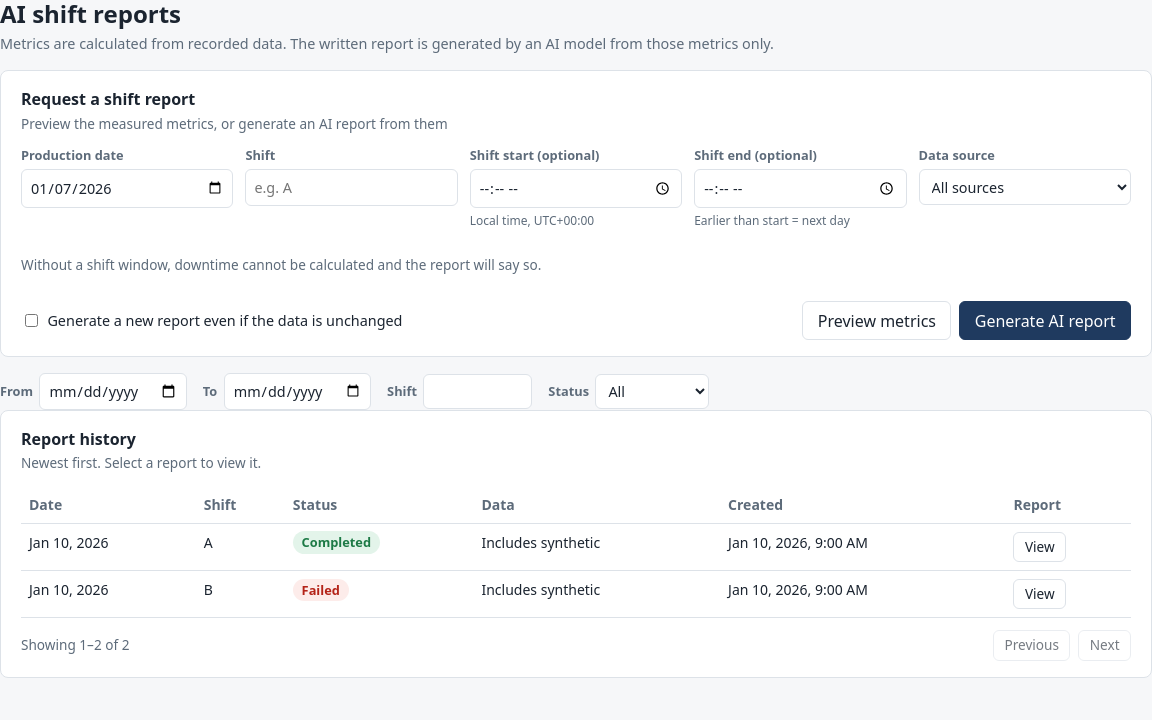
ReportsPage — form › sends the shift window as UTC instants
The image size is (1152, 720).
Check: the date field labelled "Production date" holds "2026-01-07", box [21, 169, 233, 208]
Type "A" into the field labelled "Shift" below "Production date" at (352, 188), box [245, 169, 458, 206]
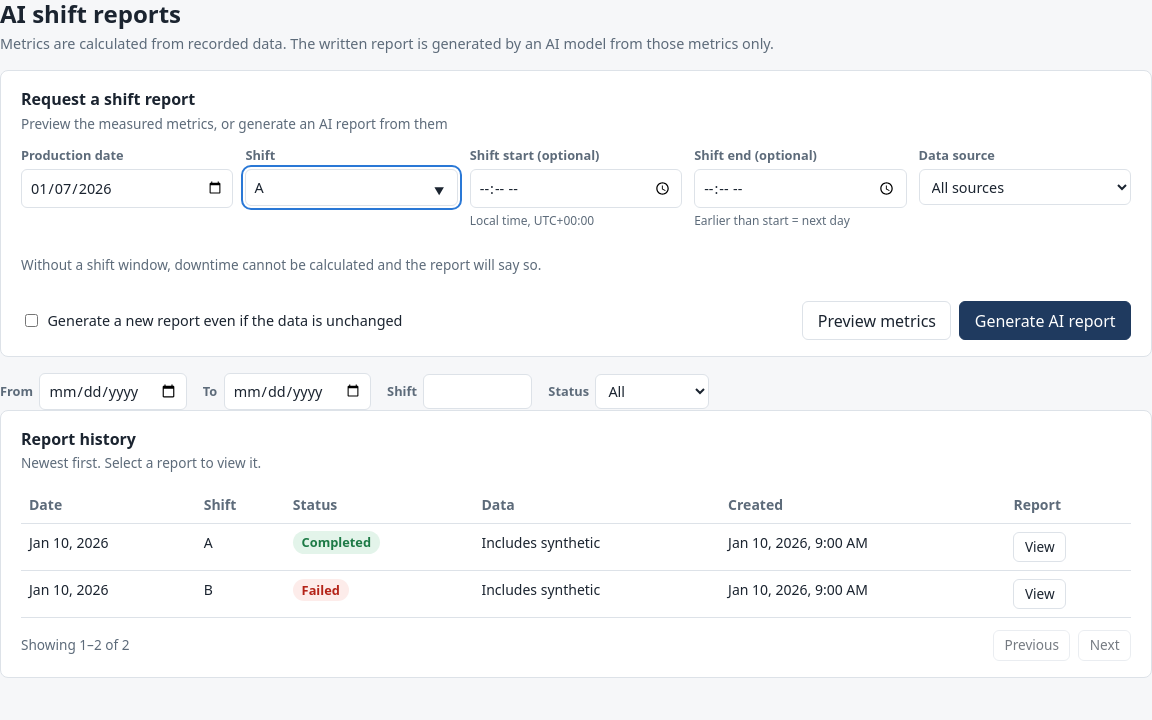
Type "22:00" into the time field labelled "Shift start (optional)" at (576, 189), box [470, 169, 682, 208]
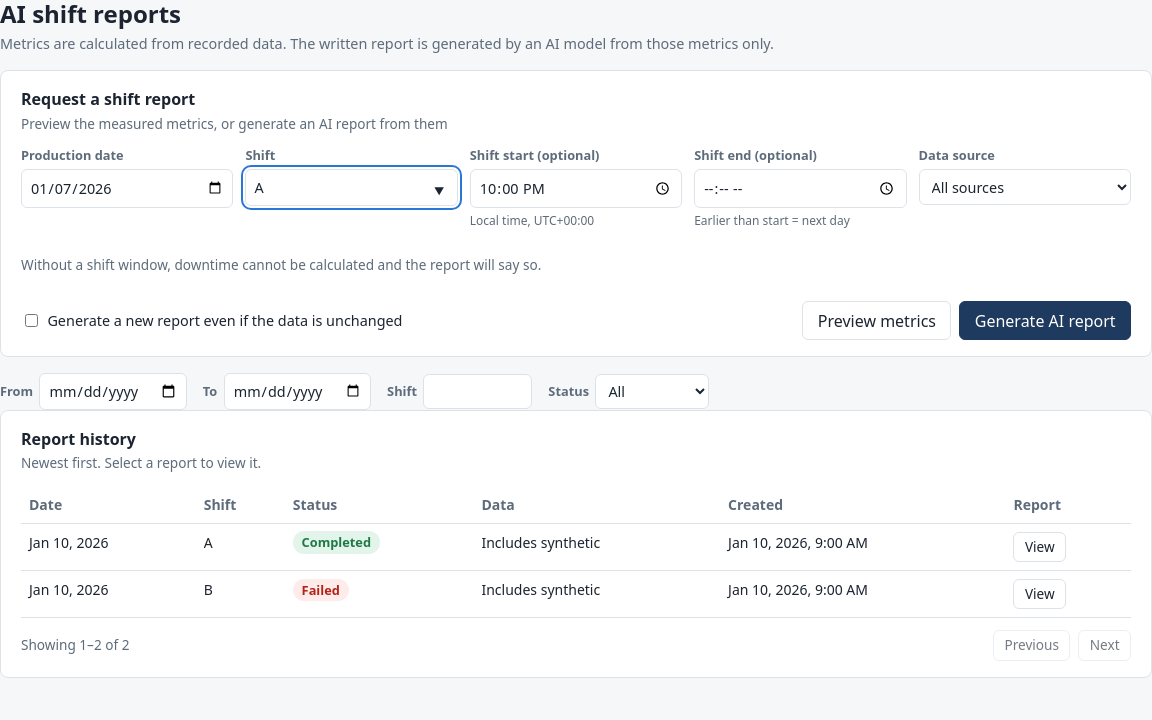
Type "06:00" into the time field labelled "Shift end (optional)" at (800, 189), box [694, 169, 907, 208]
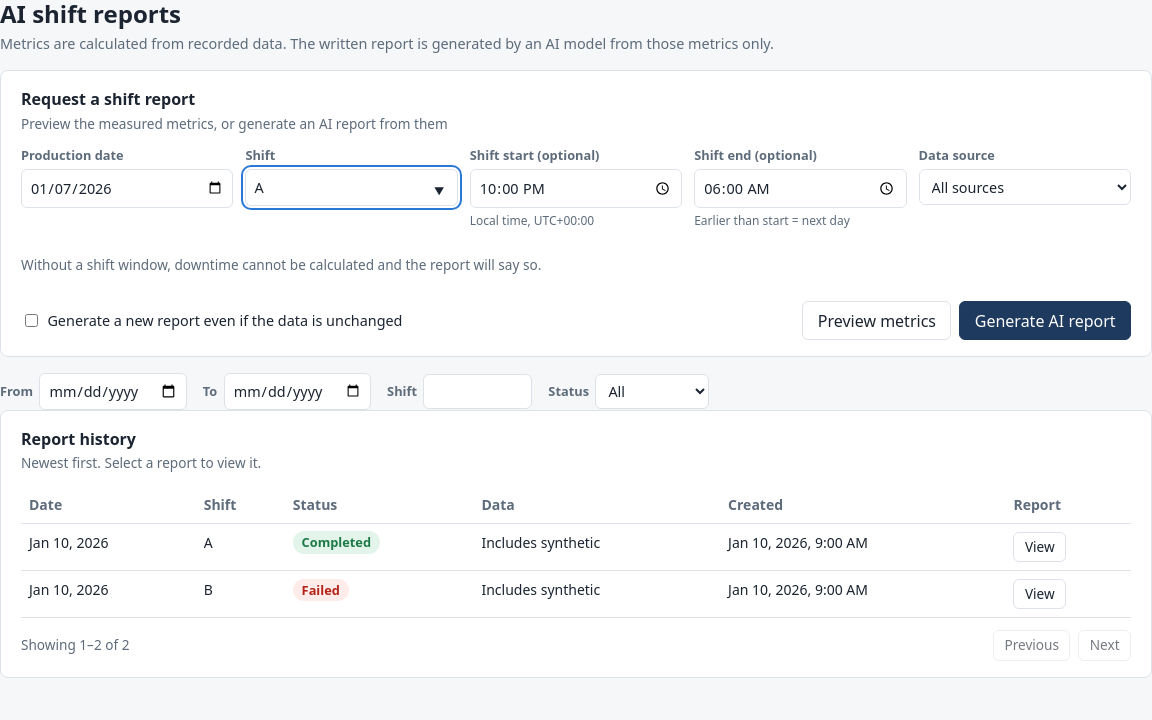
Click the button "Generate AI report" at (1045, 321), box [959, 301, 1131, 340]
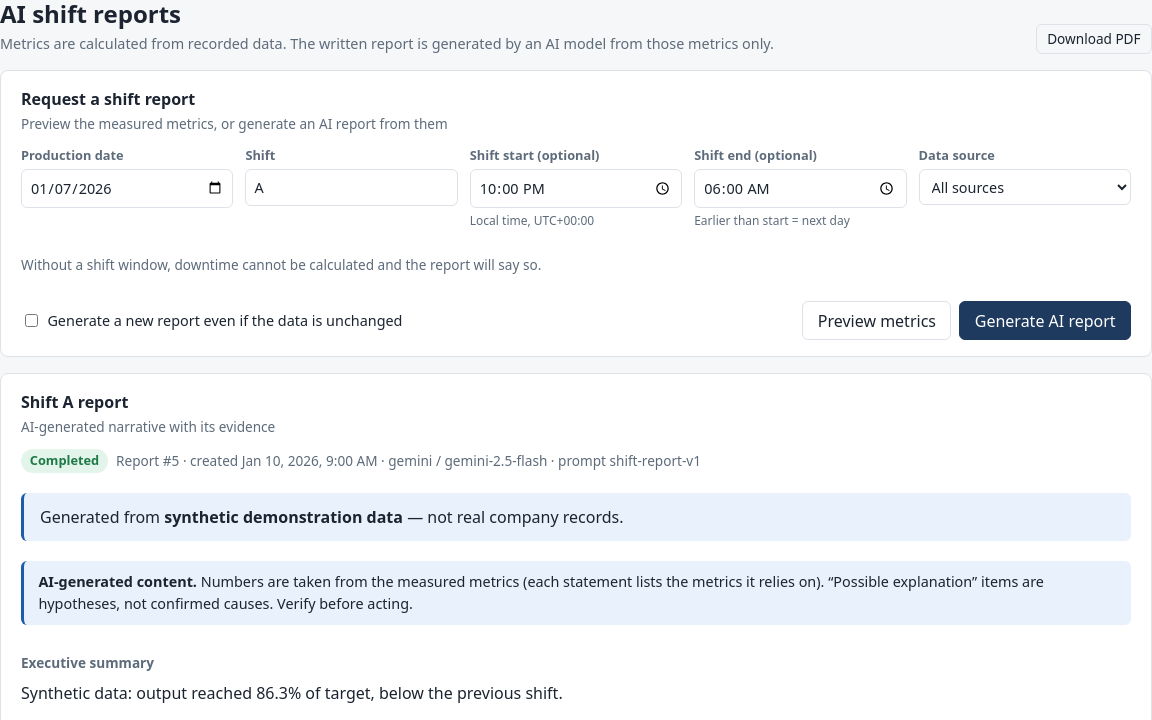
Check: the text "AI-generated content." is shown, box [38, 572, 197, 591]
